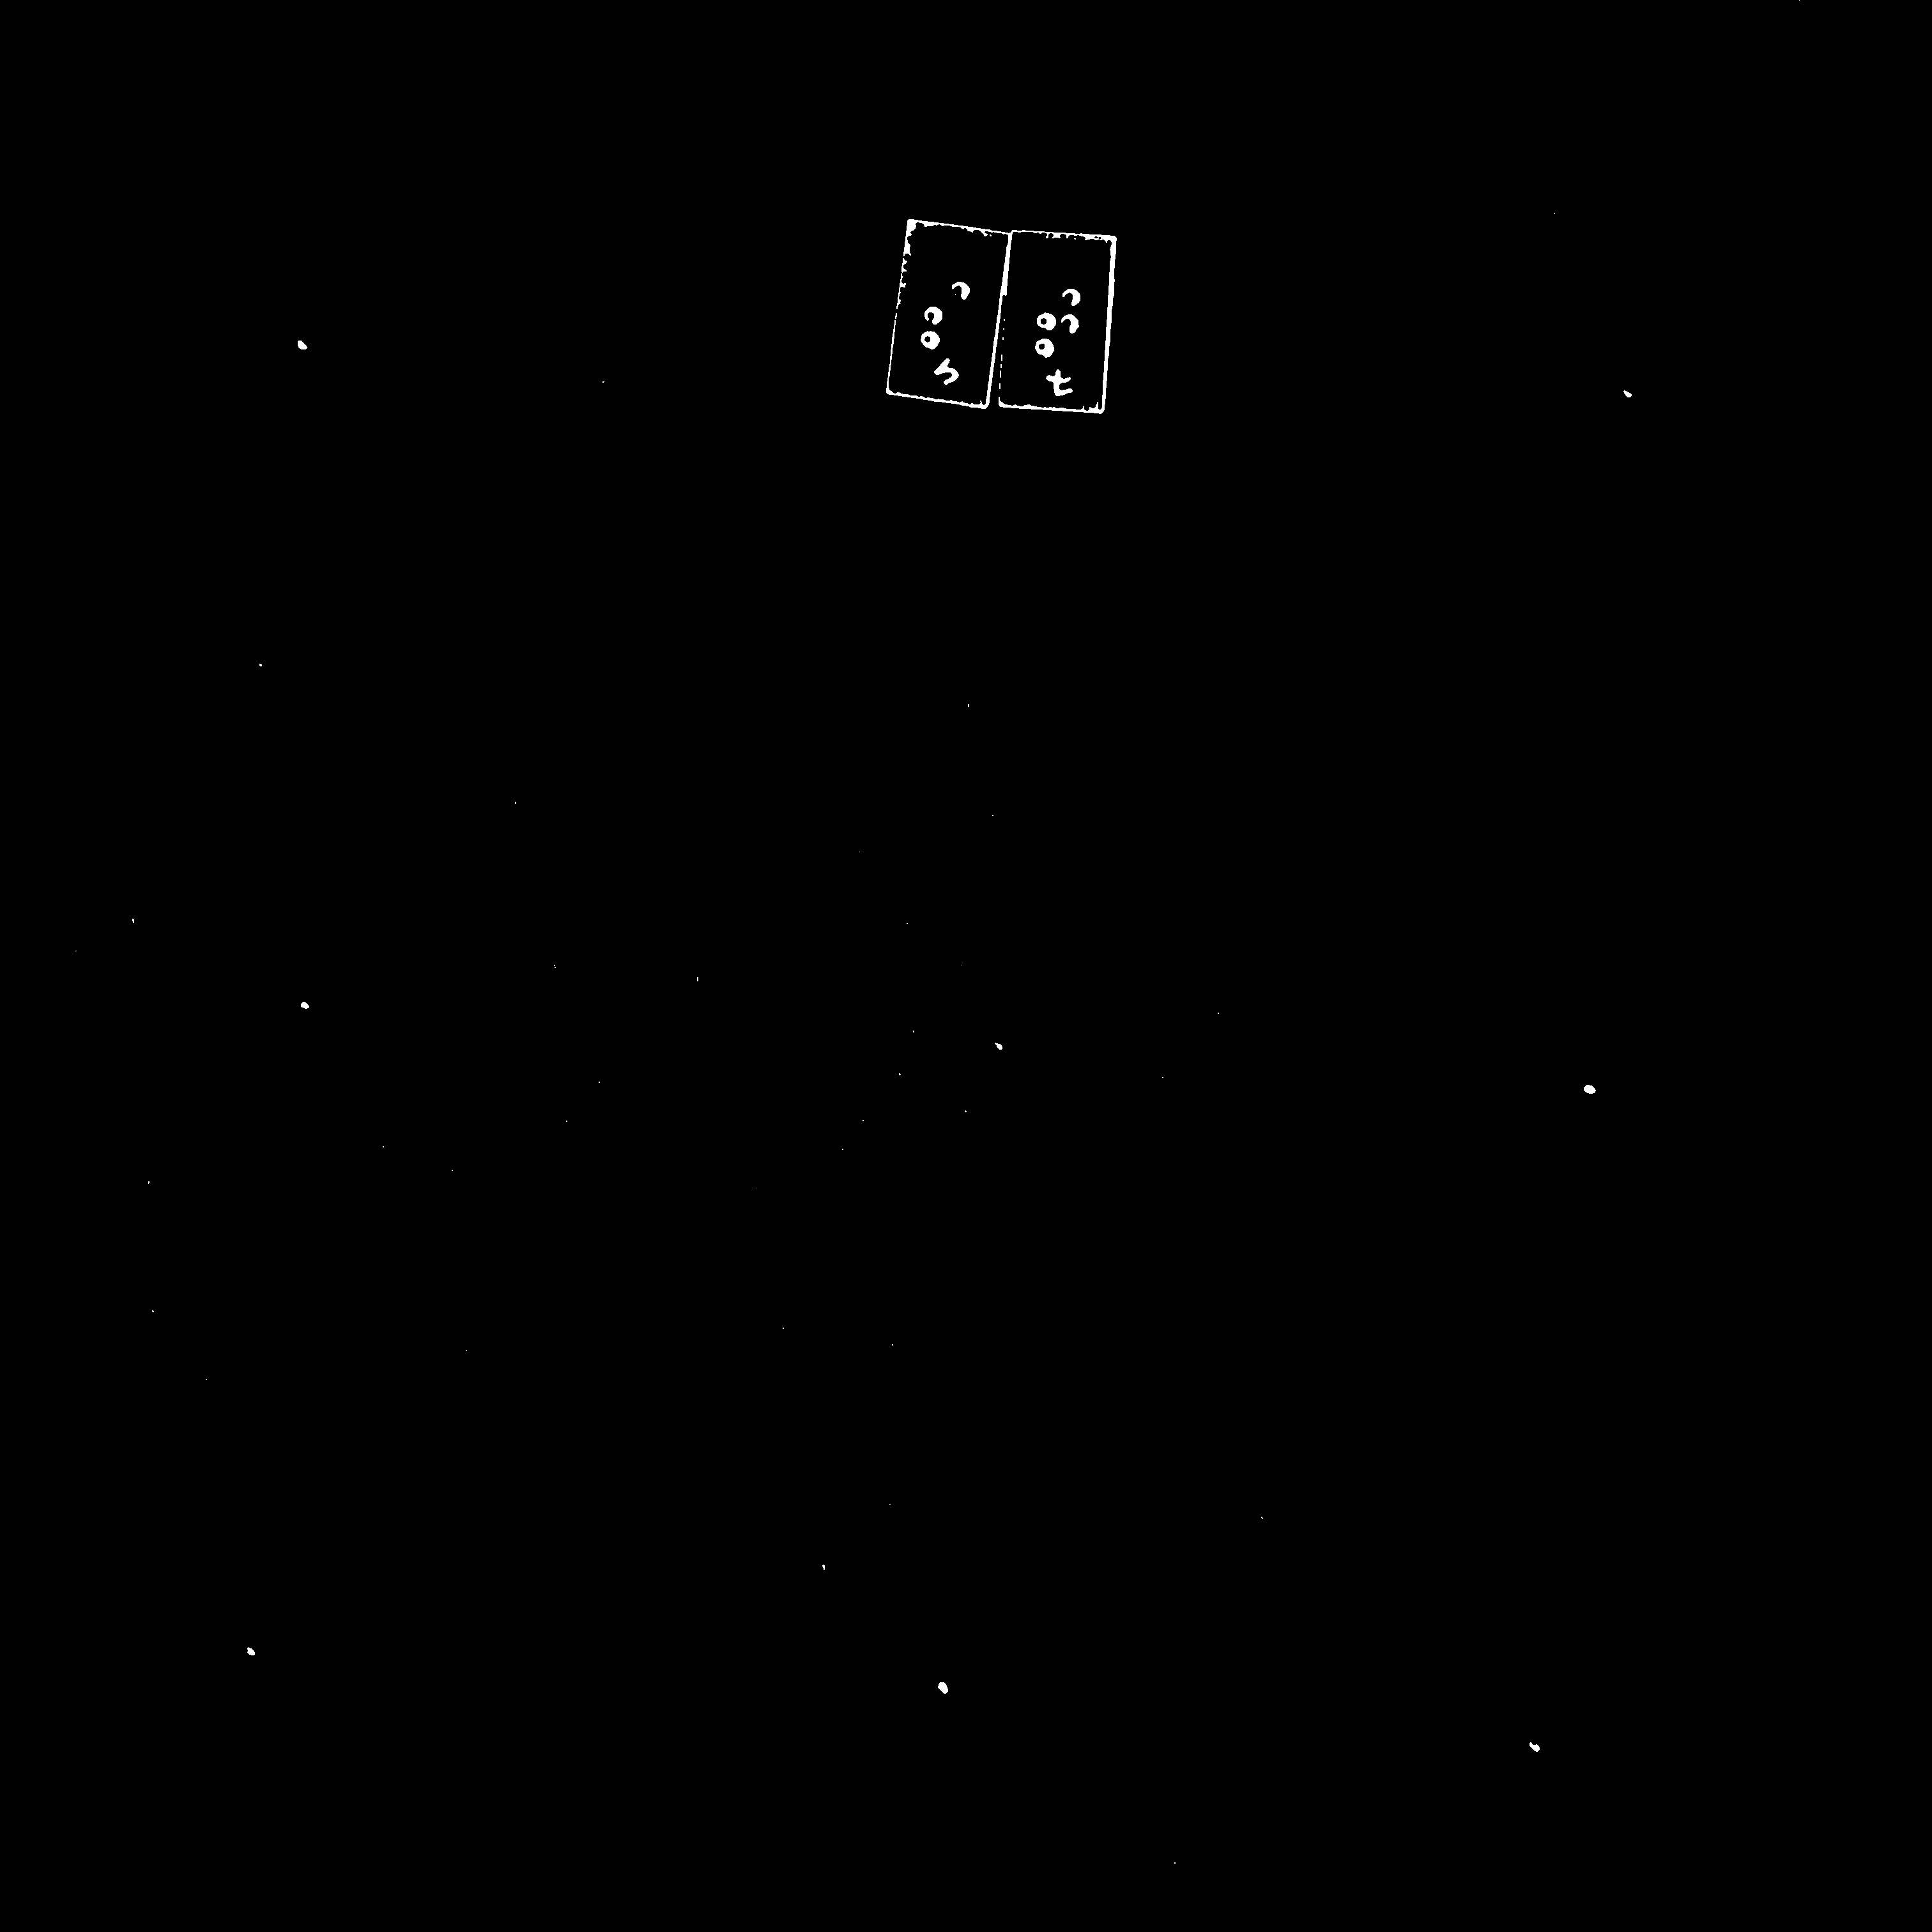s: (916, 265, 980, 360)
t: (1027, 275, 1089, 369)
